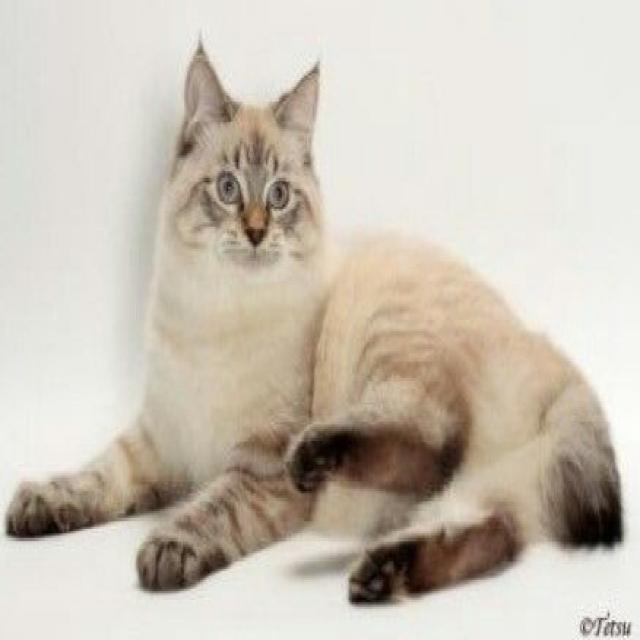American Bobtail: (0, 37, 628, 613)
